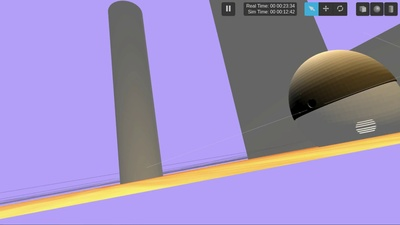mira_robot: (289, 50, 400, 137)
